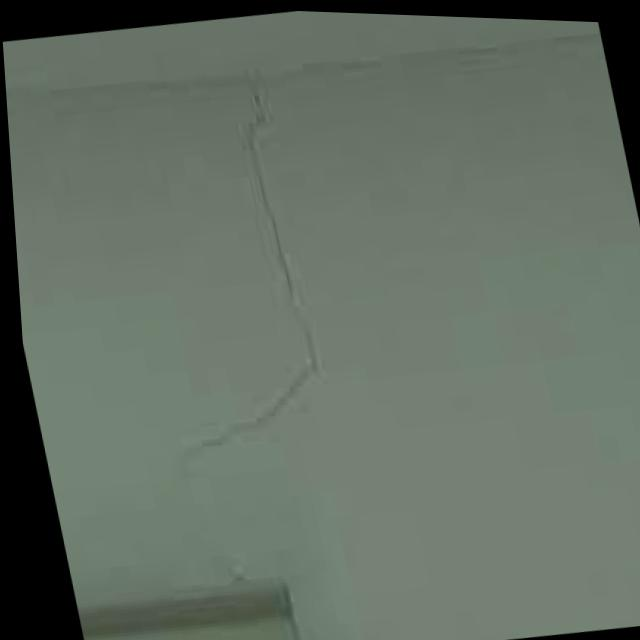Crack: (224, 68, 324, 377)
